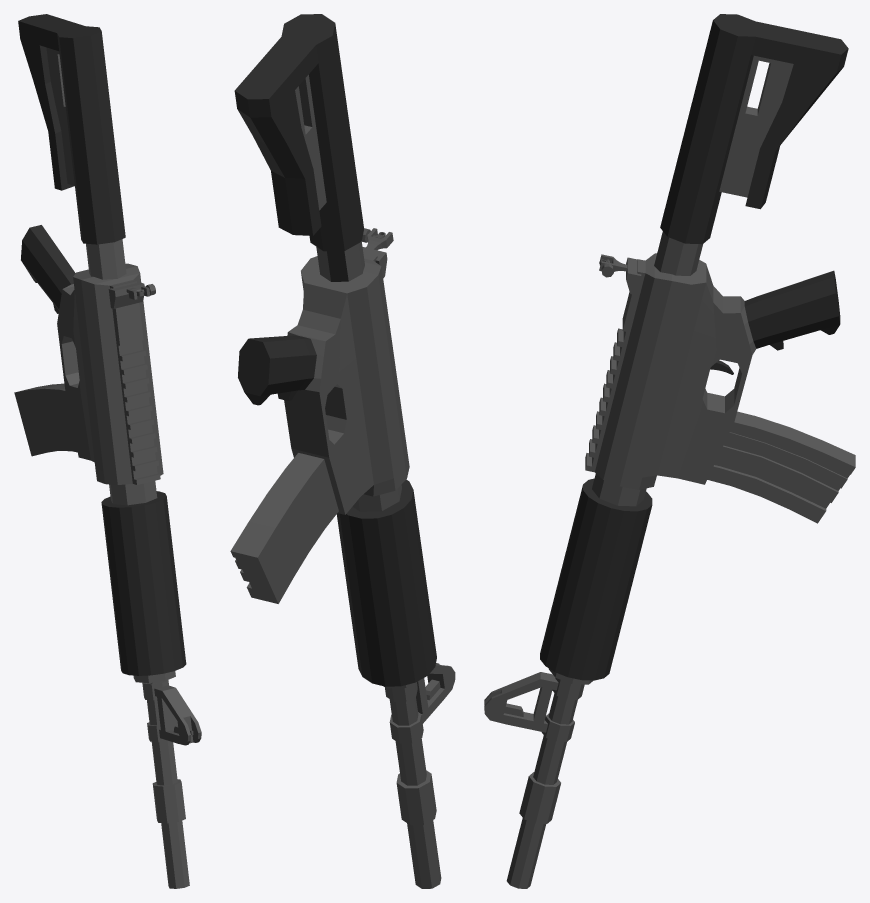
The picture shows the model from 3 angles, left to right: view 1: azimuth 30°, elevation 25°; view 2: azimuth 150°, elevation 25°; view 3: azimuth 270°, elevation 25°; orthographic projection. The views are drawn at different scales.
Visible parts, largest first — view 1: M4_Rifle_Mesh; view 2: M4_Rifle_Mesh; view 3: M4_Rifle_Mesh.
Boxes of the visible parts, <box> form: M4_Rifle_Mesh: <box>14,14,201,888</box>; M4_Rifle_Mesh: <box>230,14,455,888</box>; M4_Rifle_Mesh: <box>484,14,855,888</box>.
Bounding box in the file's own units: 0.0608 × 0.8119 × 0.3158.
1 material, 1 textured.
